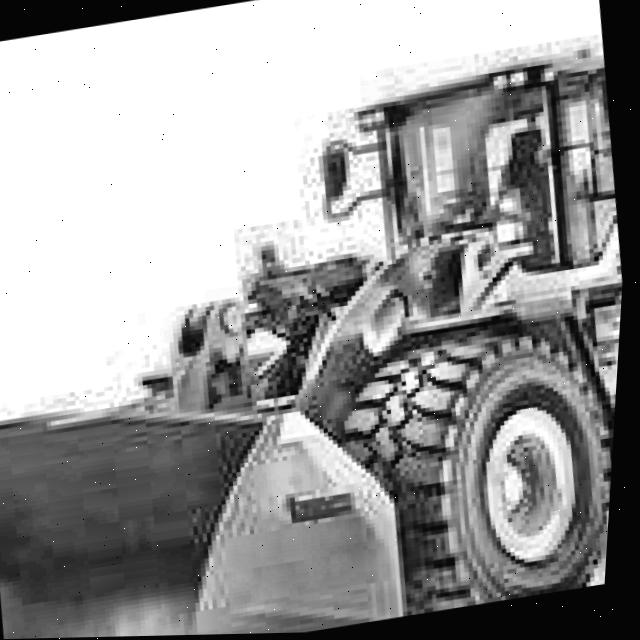buldozerpayloadergrader: (0, 35, 638, 640)
